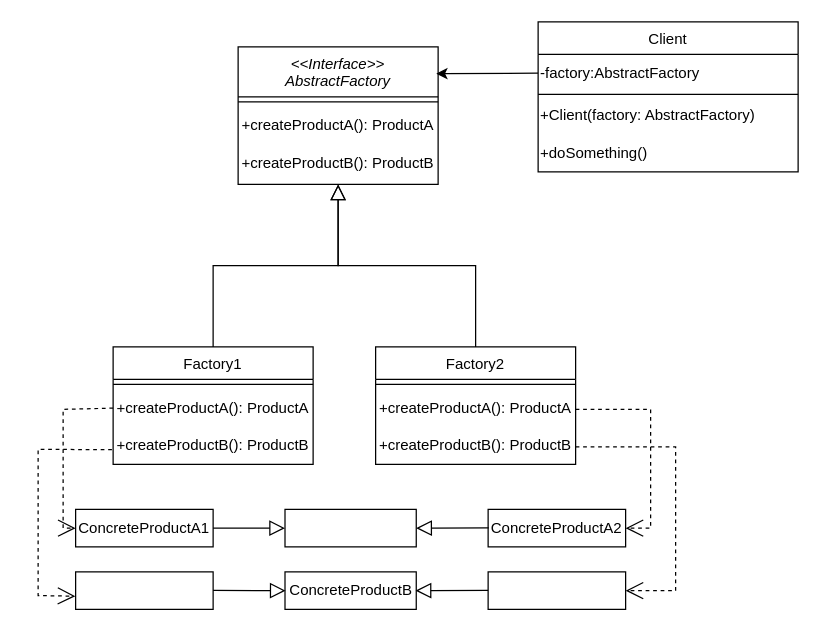
Image size: 820x636. Some labels were removed from this diagram. The centre of each missing label's shape, as x and y in pixels:
ConcreteProductA: the point at 350,527
ConcreteProductB1: the point at 143,590
ConcreteProductB2: the point at 556,590
